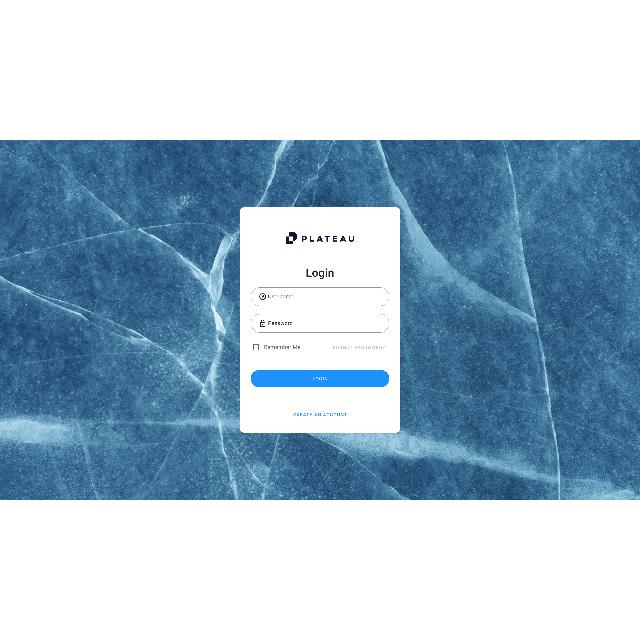QLabel: (304, 266, 336, 280), (292, 412, 348, 418), (332, 344, 386, 350), (263, 345, 301, 351), (311, 376, 329, 382)
VBtn: (250, 370, 390, 388)
VCard: (240, 207, 400, 433)
VCheckbox: (252, 344, 260, 352)
VImg: (284, 230, 356, 246)
VTextField: (251, 287, 389, 307), (250, 314, 390, 332)
